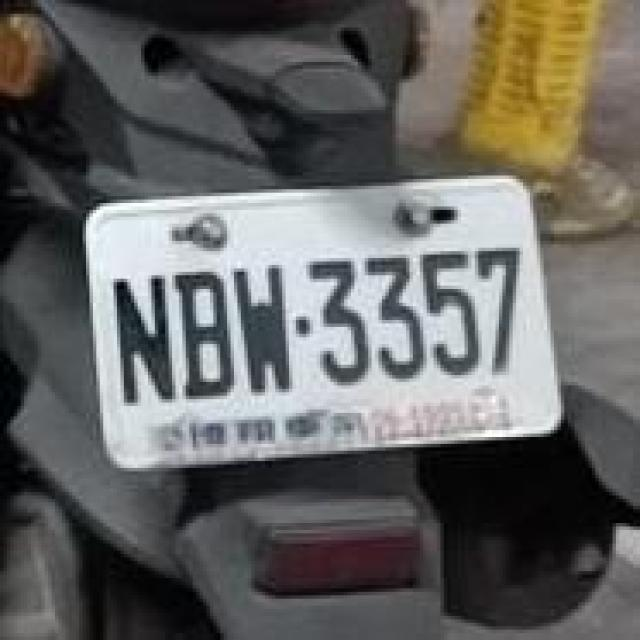W: (76, 158, 561, 489)
